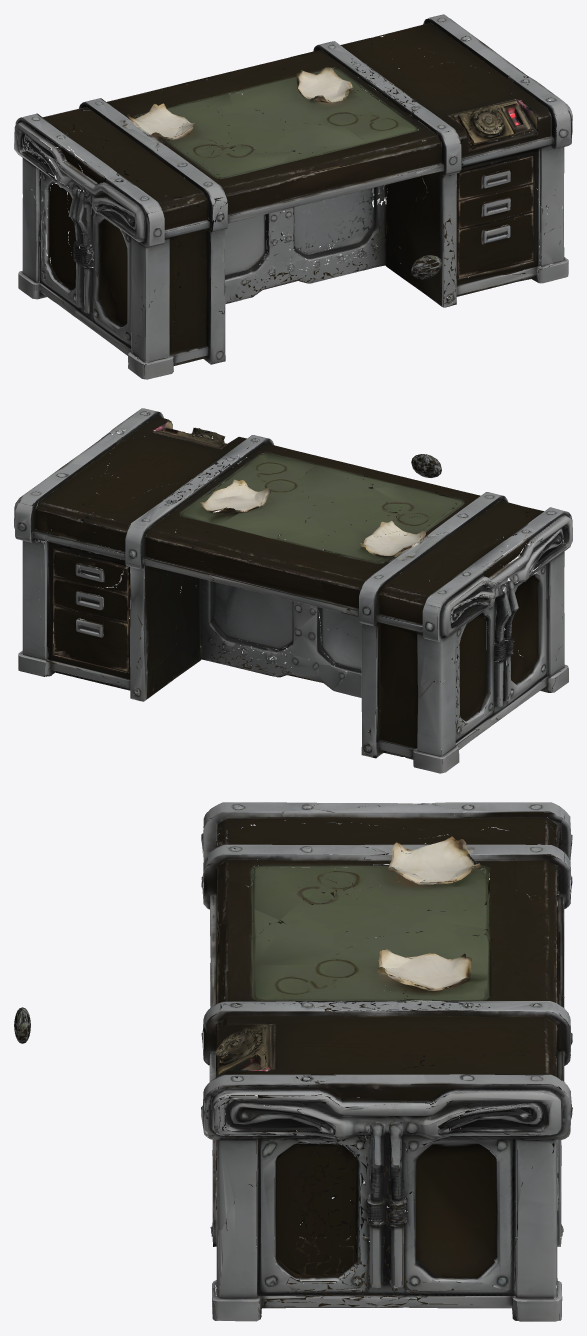
Rendered from chen_executive_mahogany_desk.glb.
3 renders of one model, top to bottom at view 1: azimuth 30°, elevation 25°; view 2: azimuth 150°, elevation 25°; view 3: azimuth 270°, elevation 25°, orthographic. The views are drawn at different scales.
Visible parts, largest first — view 1: node_0, HB_PULSE_00; view 2: node_0, HB_PULSE_00; view 3: node_0.
Part boxes in pixels (x1,y1,x2,y2): node_0: [14, 14, 572, 379]; HB_PULSE_00: [411, 255, 441, 279]; node_0: [14, 408, 572, 773]; HB_PULSE_00: [411, 454, 441, 477]; node_0: [201, 802, 572, 1321].
Bounding box in the file's own units: 1.05 × 0.4136 × 0.8371.
1 material, 1 textured.
